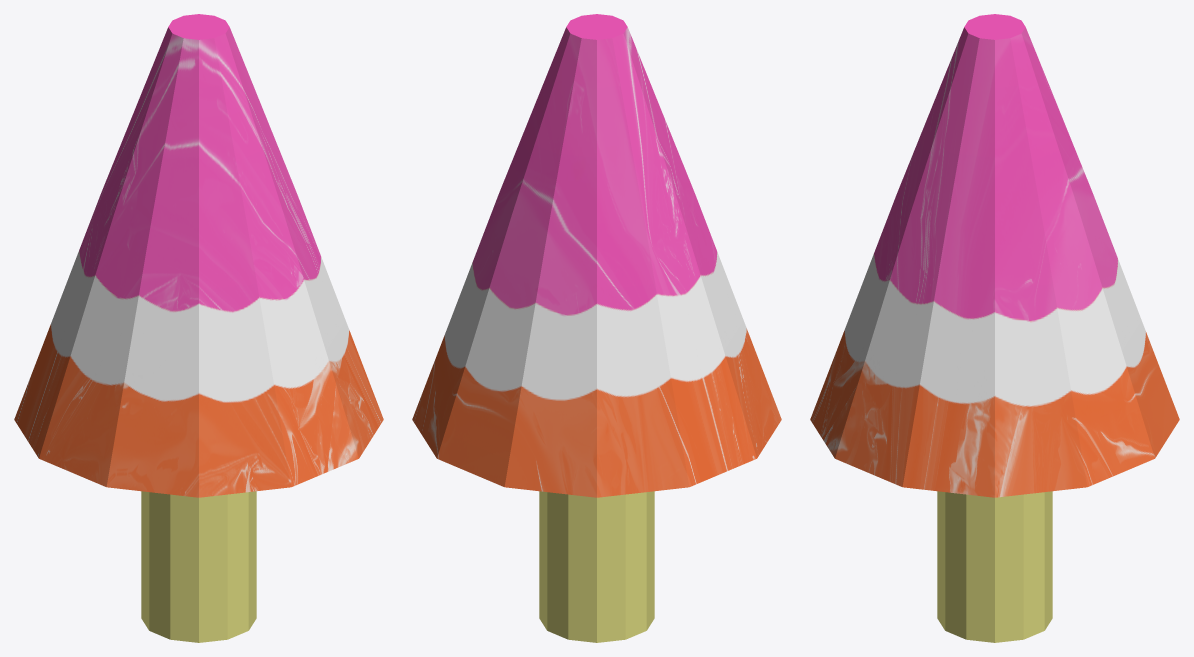
The model's file is Espadita.fbx.
3 renders of one model, left to right at view 1: azimuth 30°, elevation 25°; view 2: azimuth 150°, elevation 25°; view 3: azimuth 270°, elevation 25°, orthographic.
Parts seen in each view (by area): view 1: pCylinder1; view 2: pCylinder1; view 3: pCylinder1.
Boxes of the visible parts, x1=… form: pCylinder1: x1=14, y1=14, x2=383, y2=642; pCylinder1: x1=412, y1=14, x2=781, y2=642; pCylinder1: x1=810, y1=14, x2=1179, y2=642.
Bounding box in the file's own units: 17.55 × 30.99 × 17.55.
Materials: 1 (1 with a texture image).
